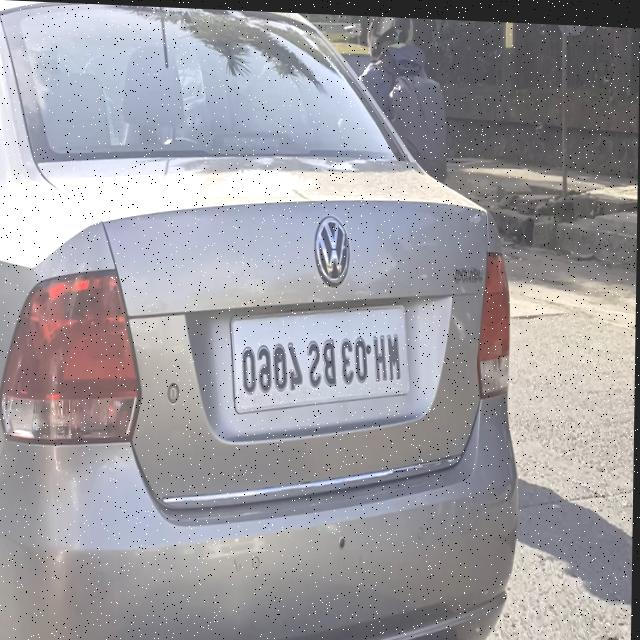plate: (230, 292, 413, 421)
